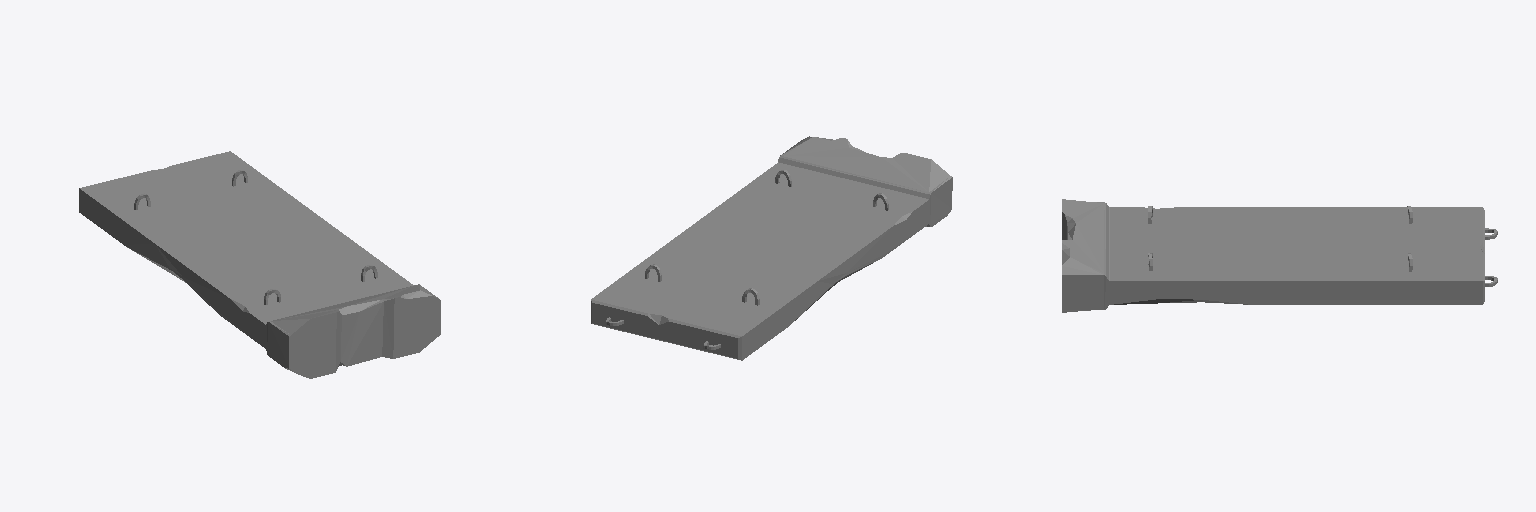
Rendered from Platform.obj.
3 views of the same model, side by side, from view 1: azimuth 30°, elevation 25°; view 2: azimuth 150°, elevation 25°; view 3: azimuth 270°, elevation 25° (orthographic).
Visible parts, largest first — view 1: DrawCall_0; view 2: DrawCall_0; view 3: DrawCall_0.
Boxes of the visible parts, x1=… form: DrawCall_0: x1=79, y1=151, x2=440, y2=378; DrawCall_0: x1=591, y1=136, x2=952, y2=360; DrawCall_0: x1=1062, y1=199, x2=1497, y2=312.
Bounding box in the file's own units: 425 × 162 × 1056.